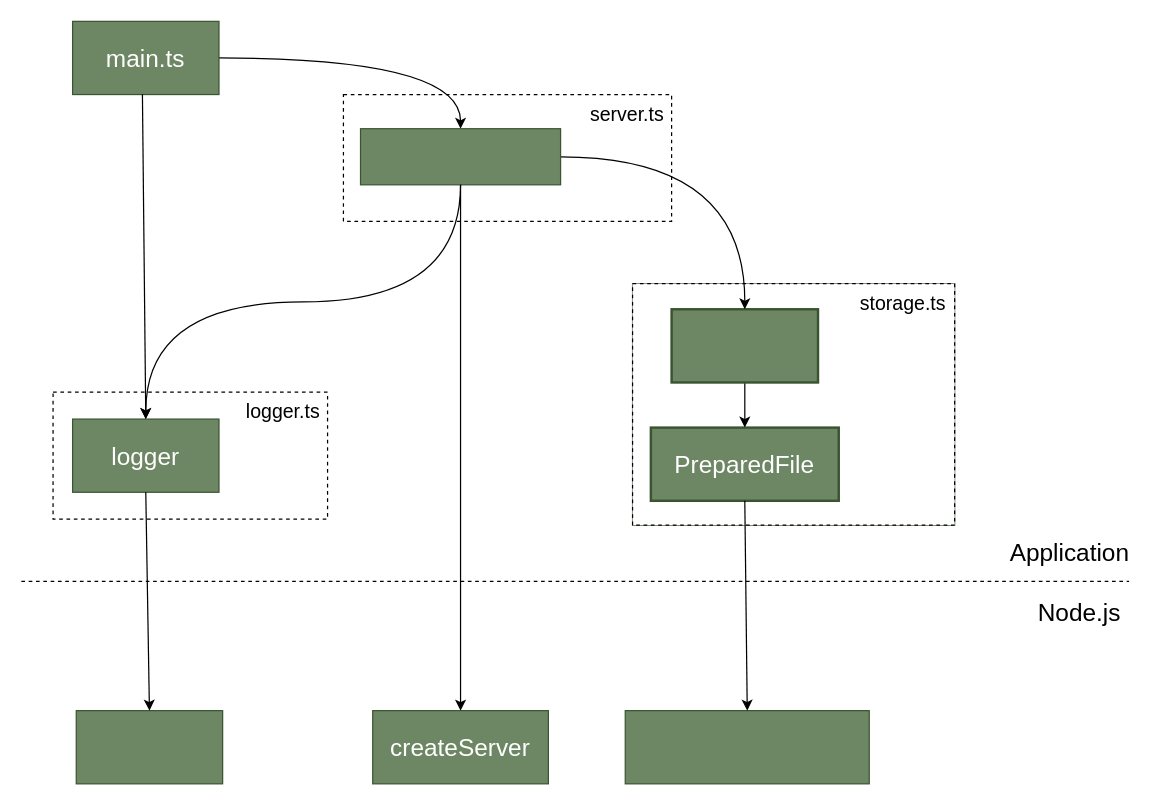
The diagram is 1161 pixels wide and 805 high, and some of its shapes have lost their labels. The centre of each missing label's shape, as x and y in pixels:
"Console" belongs at pixel 149 746.
"ReadableStream" belongs at pixel 746 746.
"serveStatic" belongs at pixel 460 156.
"Storage" belongs at pixel 744 345.
